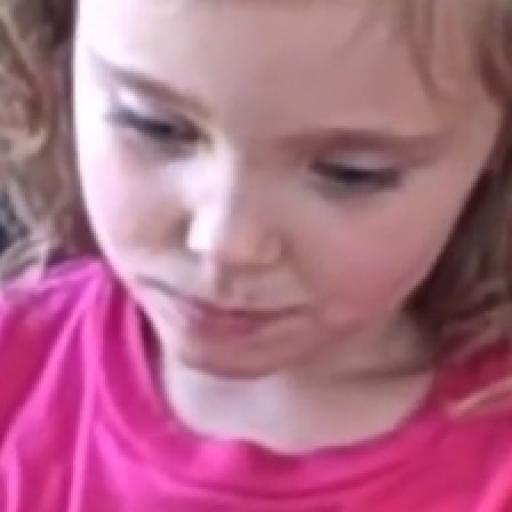Autism: (30, 0, 512, 485)
